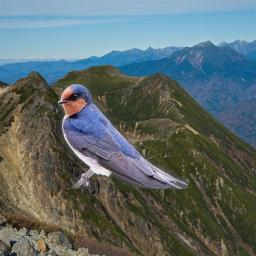Swallow: (58, 84, 188, 189)
